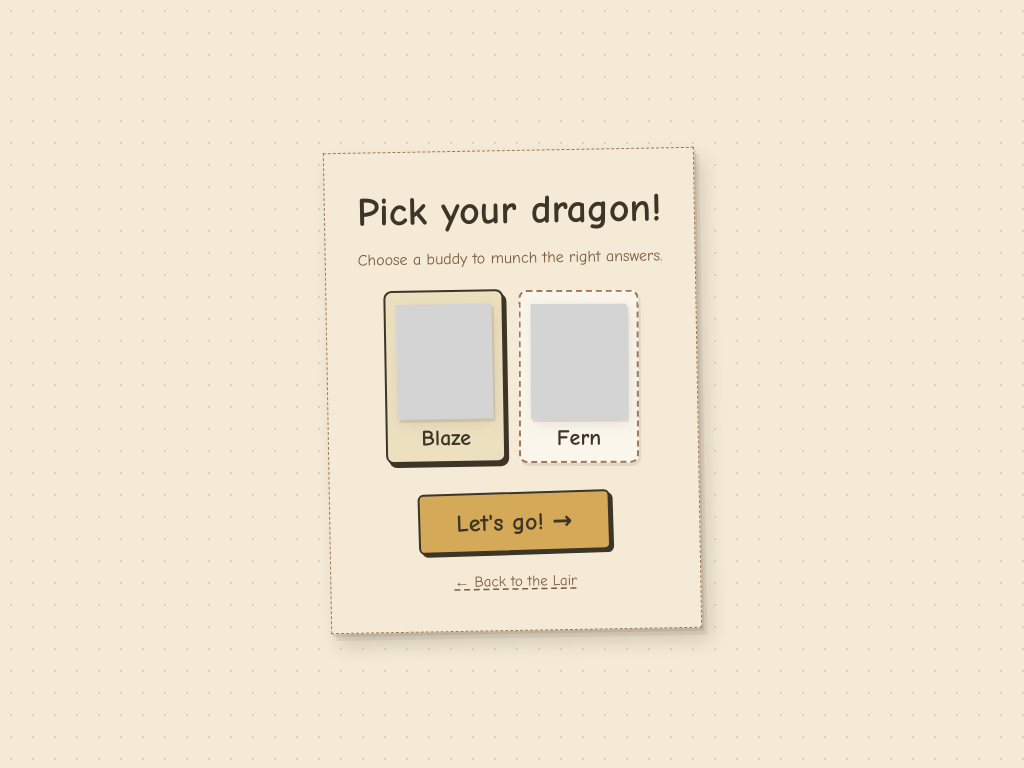
Test: DragonMunchers — the board › labels a sub round for base 9
The width and height of the screenshot is (1024, 768).
Click the button "Let's go! →": (514, 522) [417,488,611,554]
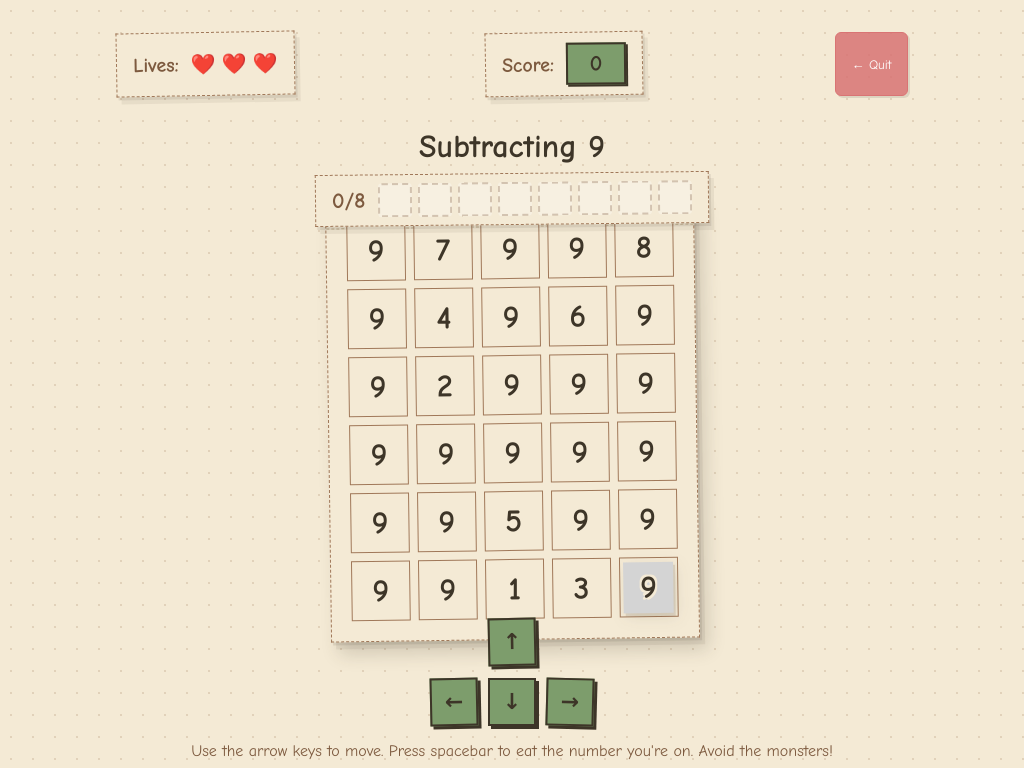
Now the text "Subtracting 9" is shown, box [419,128,605,165]
